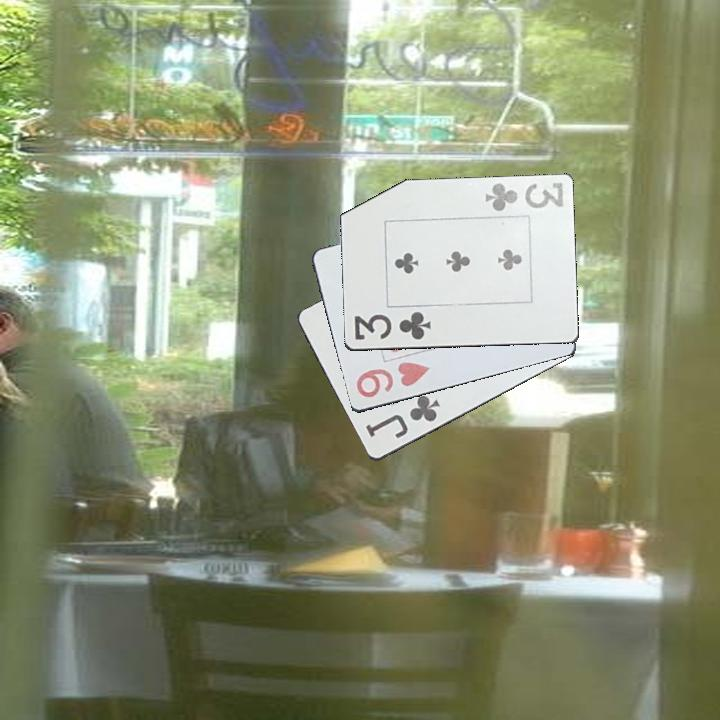3c: (481, 179, 566, 215), (351, 308, 434, 343)
9h: (352, 358, 435, 401)
Jc: (362, 392, 443, 442)
